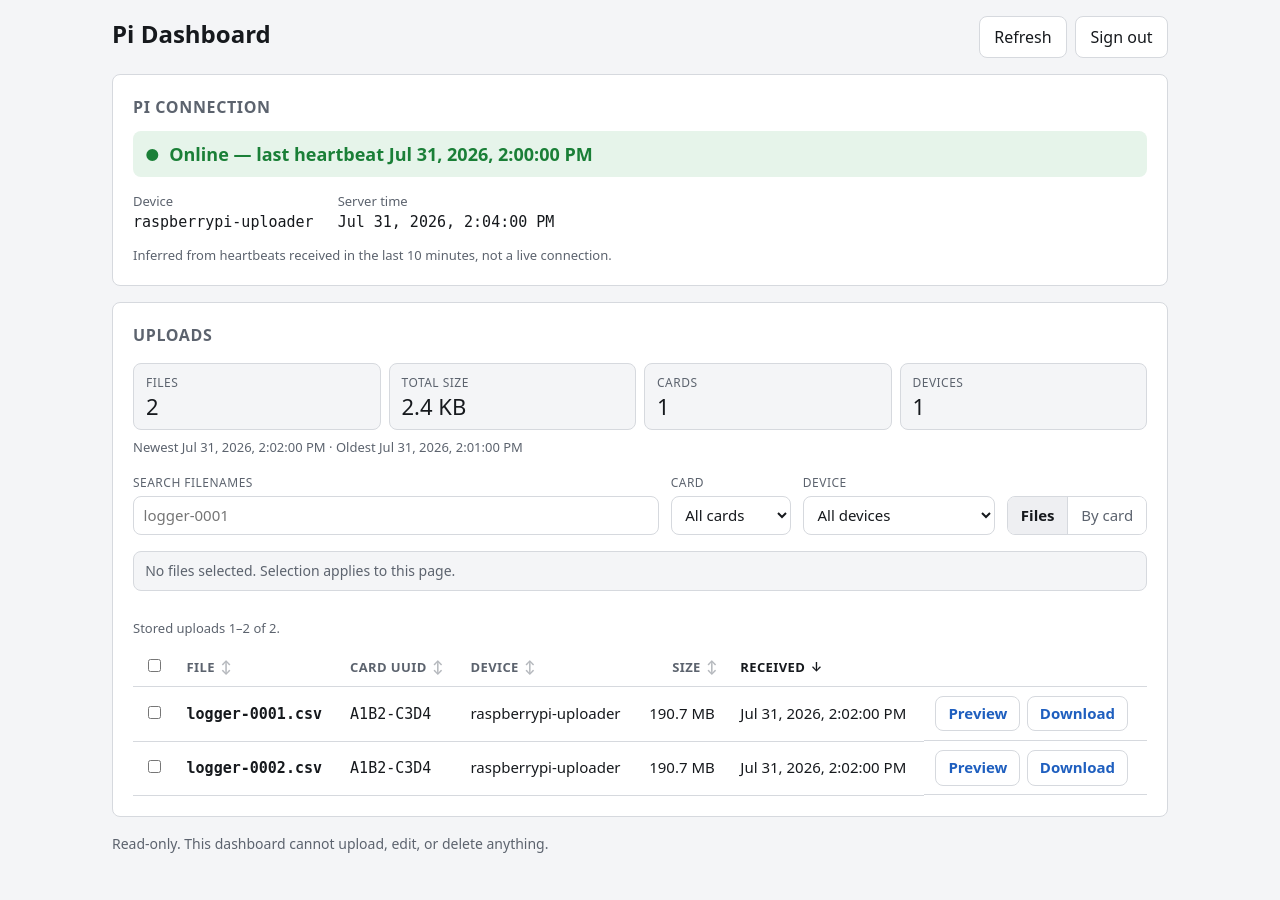
Test: bulk selection › explains a selection too large to archive instead of sending it
This screenshot has width=1280, height=900.
Click the checkbox named "select all files on this page".
click(155, 665)  # box [148, 658, 161, 672]
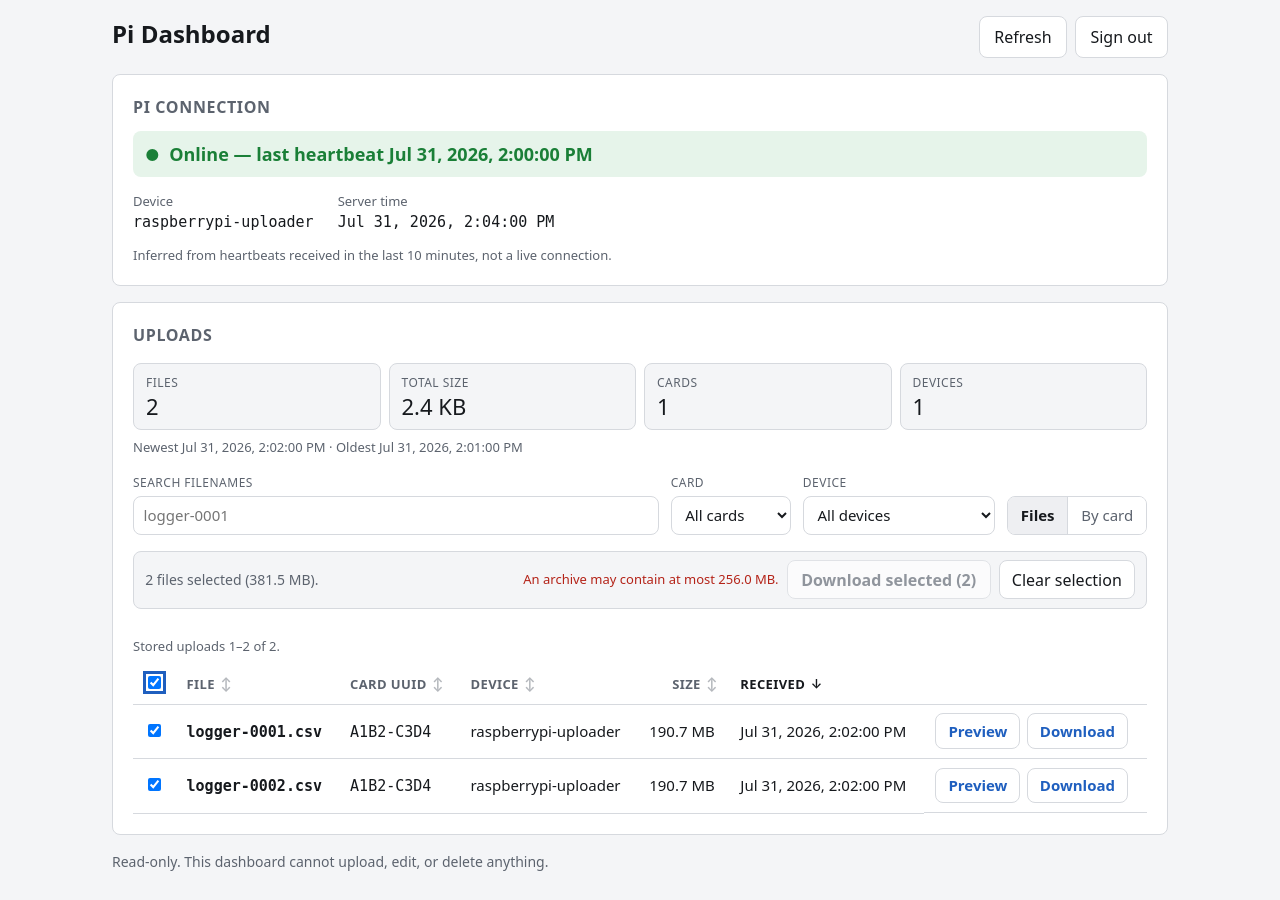
expect the message "An archive may contain at most 256.0 MB." is shown: met, box [523, 570, 779, 590]
expect the button "Download selected (2)" is disabled: met, box [787, 560, 991, 599]
